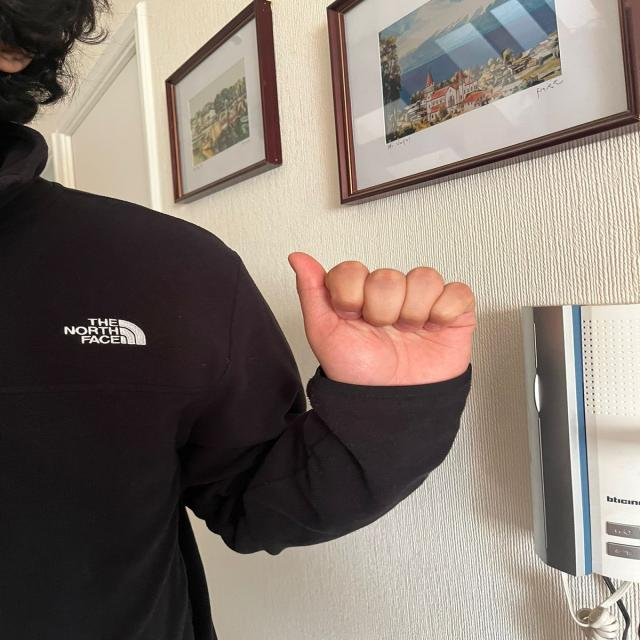A: (282, 245, 494, 406)
